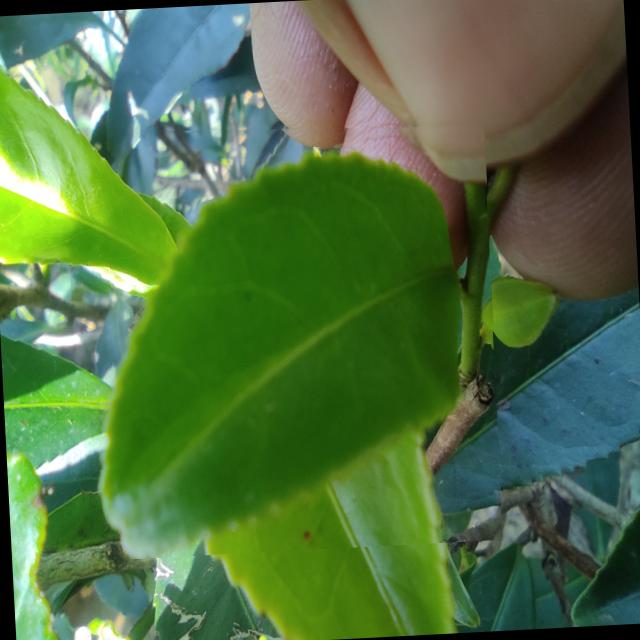Category C(4-7 days): (63, 110, 506, 562)
